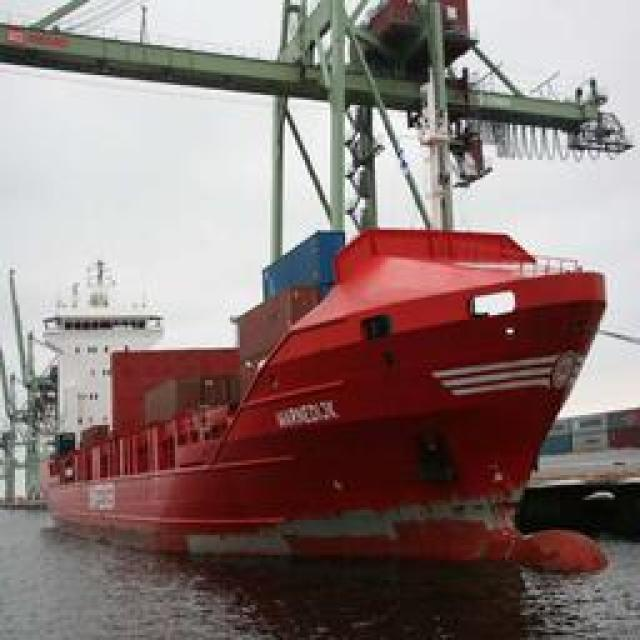CIV_Ship: (79, 190, 622, 572)
